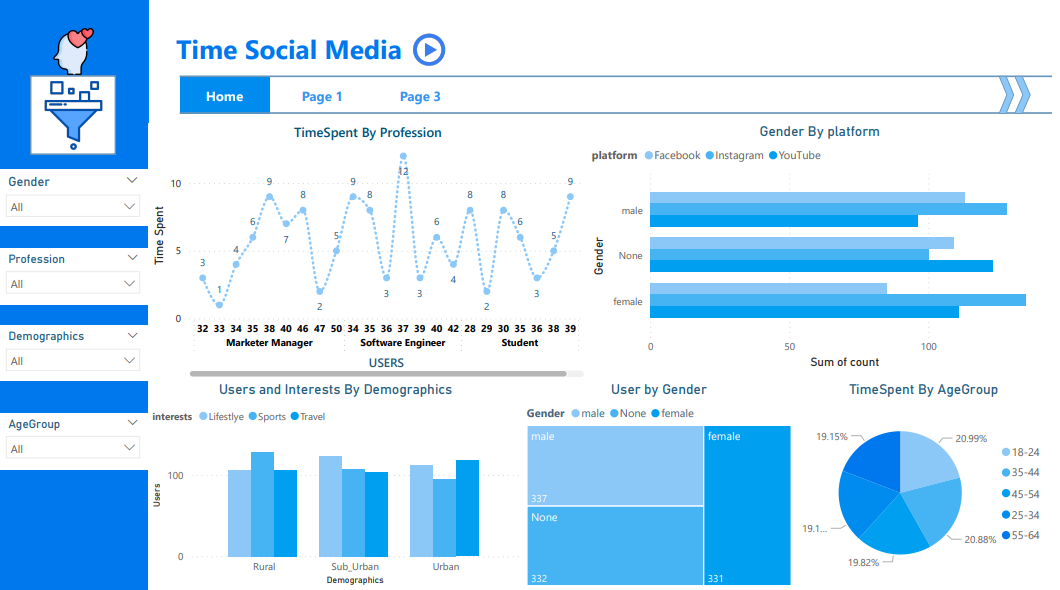

The page's visual inventory and layout, read from the dashboard file:
{"tool":"powerbi","page":{"name":"Home","canvas":[1280,720],"ordinal":0},"visuals":[{"type":"shape","box":[0,0,183.1,719.5],"z":0},{"type":"pieChart","title":"TimeSpent By AgeGroup","fields":{"Y":["Sum(AgeGroup.AverageTimeSpent)"],"Category":["AgeGroup.AgeGroup"]},"box":[968.8,466.2,311.7,253.2],"z":1000},{"type":"clusteredColumnChart","title":"Users and Interests By Demographics","fields":{"Category":["demographicsUsers.Demographics"],"Y":["Sum(demographicsUsers.USERS)"],"Series":["demographicsUsers.interests"]},"box":[183.1,466.2,454.5,253.2],"z":2000},{"type":"lineChart","title":"TimeSpent By Profession","fields":{"Category":["UsersPlatforms.profession","UsersPlatforms.USERS"],"Y":["Sum(UsersPlatforms.TimeSpent)"]},"box":[183.1,153.2,533.8,313],"z":3000},{"type":"treemap","title":"User by Gender","fields":{"Group":["Gend_Count_21.Gender"],"Values":["Sum(Gend_Count_21.UserCount)"]},"box":[637.7,466.2,331.2,253.2],"z":4000},{"type":"clusteredBarChart","title":"Gender By platform","fields":{"Category":["PlatformByGender.Gender"],"Y":["Sum(PlatformByGender.count)"],"Series":["PlatformByGender.platform"]},"box":[716.9,153.2,563.6,302.6],"z":5000},{"type":"slicer","fields":{"Values":["PlatformByGender.Gender"]},"box":[0,210.4,183.1,67.5],"z":6000},{"type":"slicer","fields":{"Values":["UsersPlatforms.profession"]},"box":[0,305.2,183.1,67.5],"z":7000},{"type":"slicer","fields":{"Values":["demographicsUsers.Demographics"]},"box":[0,398.7,183.1,67.5],"z":8000},{"type":"slicer","fields":{"Values":["AgeGroup.AgeGroup"]},"box":[0,505.2,183.1,67.5],"z":9000},{"type":"textbox","box":[202.6,36.4,1077.9,59.7],"z":10000},{"type":"pageNavigator","box":[220.8,96.1,349.4,45.5],"z":11000},{"type":"shape","box":[220.8,93.5,1059.7,5.2],"z":12000},{"type":"shape","box":[220.8,135.1,1059.7,11.7],"z":13000},{"type":"image","box":[490.9,36.4,64.9,54.5],"z":14000},{"type":"shape","box":[40.3,96.1,102.6,94.8],"z":15000},{"type":"image","box":[40.3,96.1,102.6,94.8],"z":16000},{"type":"shape","box":[1235.1,96.1,19.5,45.5],"z":17000},{"type":"shape","box":[1215.6,96.1,19.5,45.5],"z":18000},{"type":"image","box":[59,32.9,65.8,65.8],"z":19000}]}

Visuals, with their boxes in screenshot pixels (x1, y1, x2, y2), scaled from the page's 1280x720 canvas onto the 1060x590 screenshot:
shape: (0,0,152,589)
"TimeSpent By AgeGroup" pieChart: (802,382,1059,589)
"Users and Interests By Demographics" clusteredColumnChart: (152,382,528,589)
"TimeSpent By Profession" lineChart: (152,126,594,382)
"User by Gender" treemap: (528,382,802,589)
"Gender By platform" clusteredBarChart: (594,126,1059,374)
slicer - PlatformByGender.Gender: (0,172,152,228)
slicer - UsersPlatforms.profession: (0,250,152,305)
slicer - demographicsUsers.Demographics: (0,327,152,382)
slicer - AgeGroup.AgeGroup: (0,414,152,469)
textbox: (168,30,1059,79)
pageNavigator: (183,79,472,116)
shape: (183,77,1059,81)
shape: (183,111,1059,120)
image: (407,30,460,74)
shape: (33,79,118,156)
image: (33,79,118,156)
shape: (1023,79,1039,116)
shape: (1007,79,1023,116)
image: (49,27,103,81)
